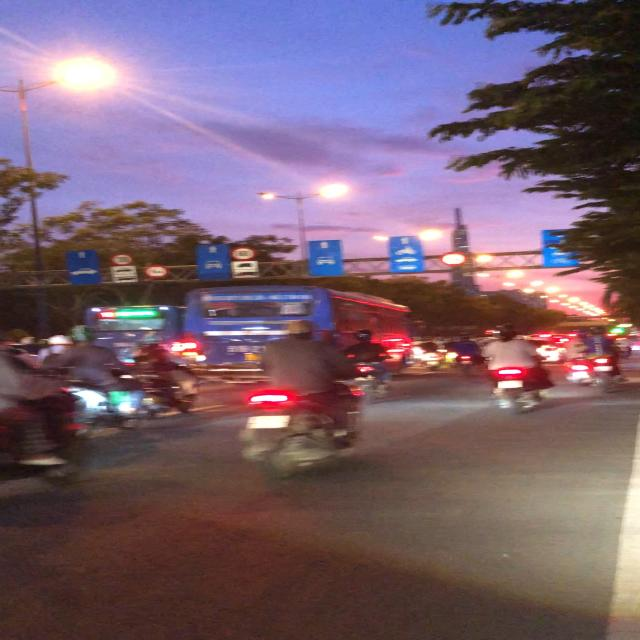Bien bao han che chieu cao: (145, 264, 173, 280)
Bien bao toc do toi da cho phep: (227, 244, 260, 260), (108, 252, 142, 267)
